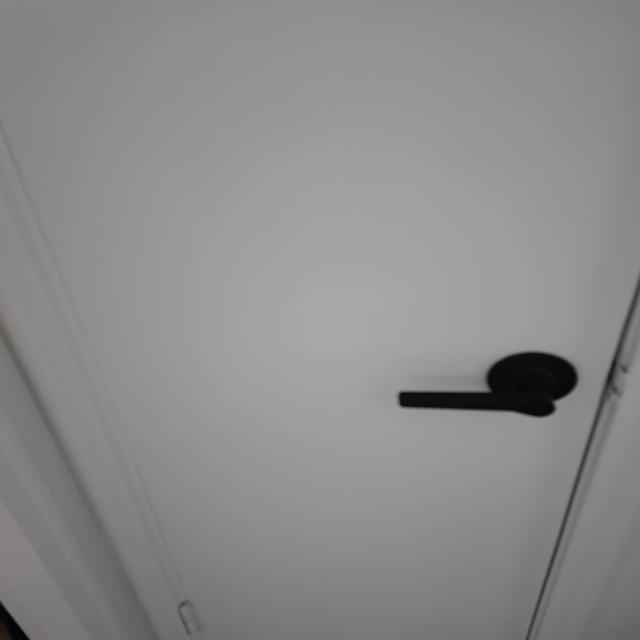door-handle: (398, 352, 577, 416)
